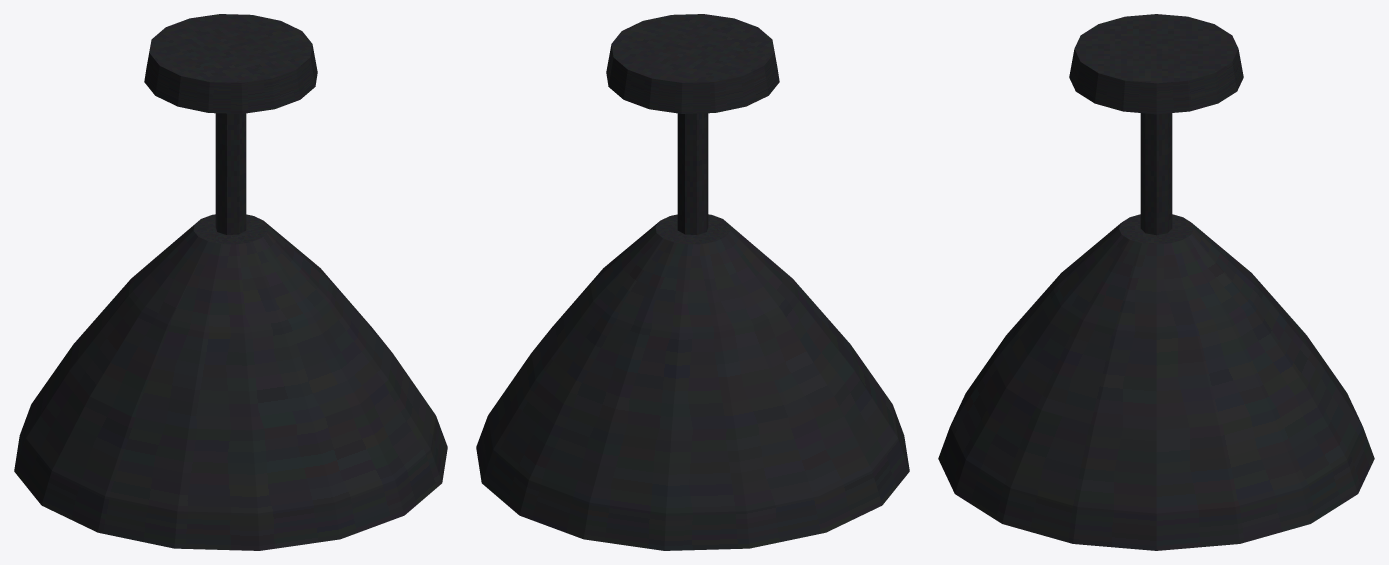
File: pendant_cone.obj
3 views of the same model, side by side, from view 1: azimuth 30°, elevation 25°; view 2: azimuth 150°, elevation 25°; view 3: azimuth 270°, elevation 25° (orthographic).
Visible parts, largest first — view 1: pendant_cone; view 2: pendant_cone; view 3: pendant_cone.
Boxes of the visible parts, x1,y1,x2,y2 form: pendant_cone: [14, 14, 447, 550]; pendant_cone: [476, 14, 909, 550]; pendant_cone: [938, 14, 1374, 550].
Size of the model in its own units: 0.6875 by 0.7844 by 0.6875.
